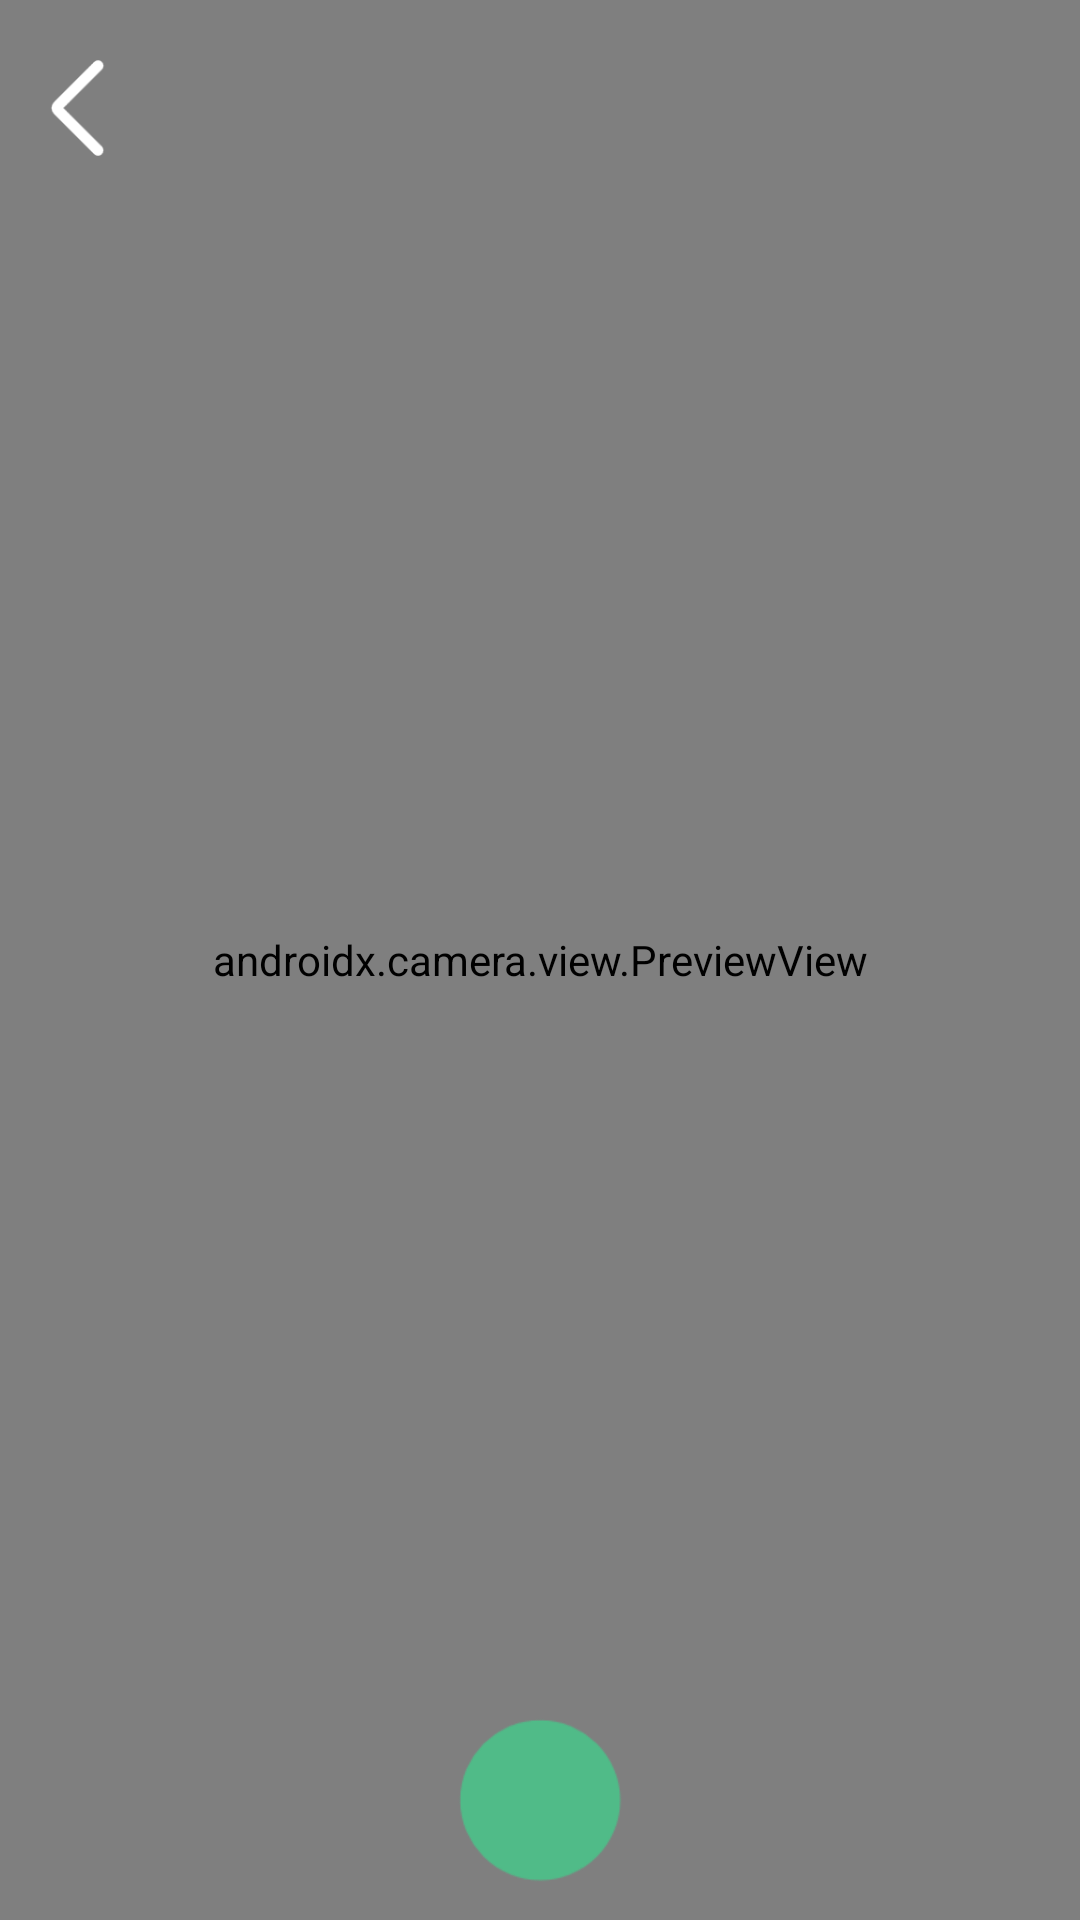

Point at icon controls on the screen. Image size 1080 x 1920, points as (x=x, y=y).
back arrow: (x=77, y=108)
